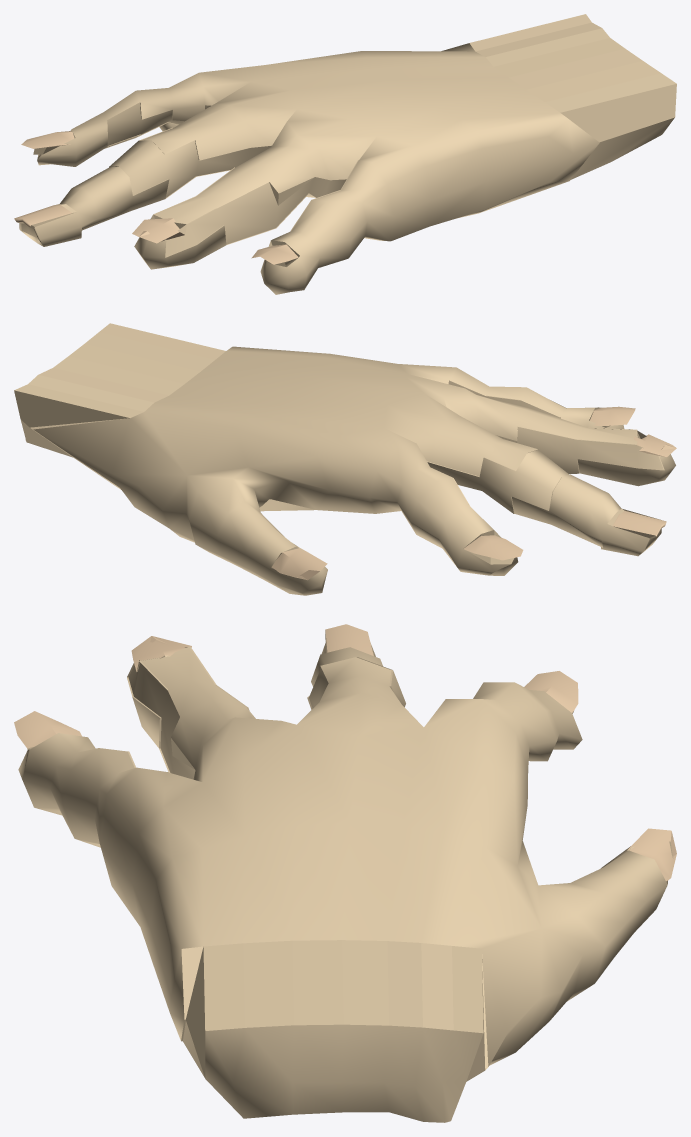
The model's file is Hand.fbx.
3 renders of one model, top to bottom at view 1: azimuth 30°, elevation 25°; view 2: azimuth 150°, elevation 25°; view 3: azimuth 270°, elevation 25°, orthographic. The views are drawn at different scales.
Visible parts, largest first — view 1: Hand; view 2: Hand; view 3: Hand.
Boxes of the visible parts, x1,y1,x2,y2 form: Hand: [14, 14, 676, 294]; Hand: [14, 323, 676, 595]; Hand: [14, 624, 676, 1122].
Size of the model in its own units: 2.03 by 0.4237 by 1.28.
